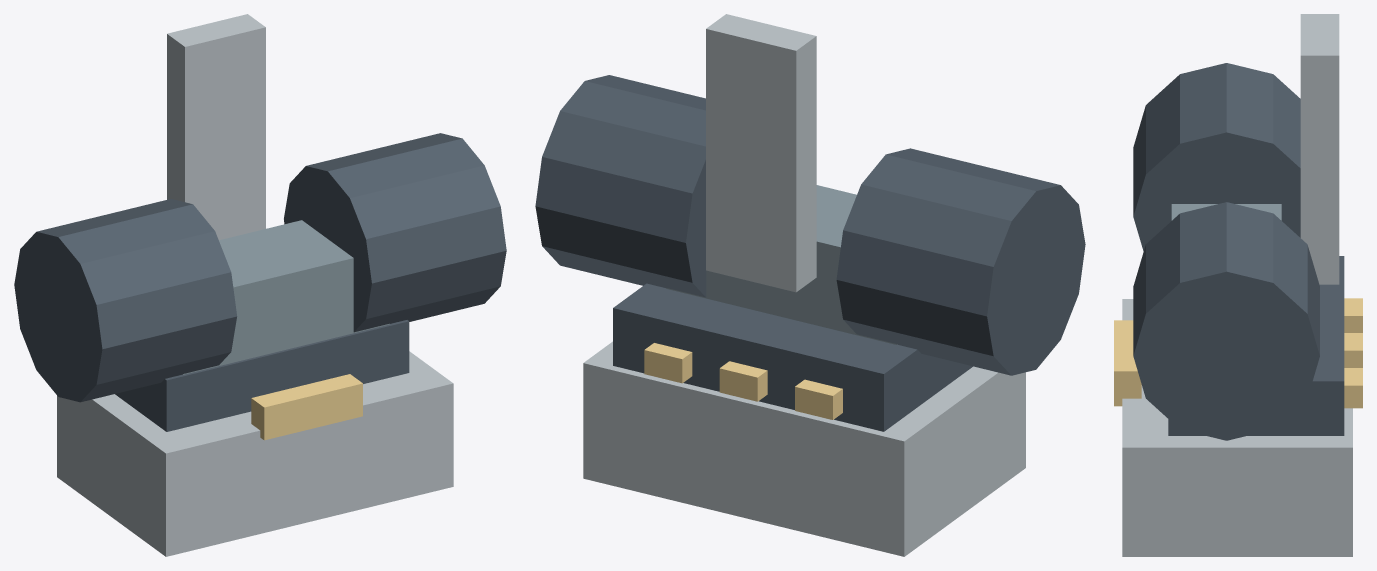
File: visitation-phone.glb
3 views of the same model, side by side, from view 1: azimuth 30°, elevation 25°; view 2: azimuth 150°, elevation 25°; view 3: azimuth 270°, elevation 25° (orthographic). The views are drawn at different scales.
Parts seen in each view (by area): view 1: Visitor telephone and intercom; view 2: Visitor telephone and intercom; view 3: Visitor telephone and intercom.
Part boxes in pixels (x1=…): Visitor telephone and intercom: x1=14, y1=14, x2=506, y2=556; Visitor telephone and intercom: x1=535, y1=14, x2=1085, y2=556; Visitor telephone and intercom: x1=1114, y1=14, x2=1362, y2=556.
Size of the model in its own units: 0.45 by 0.45 by 0.2265.
